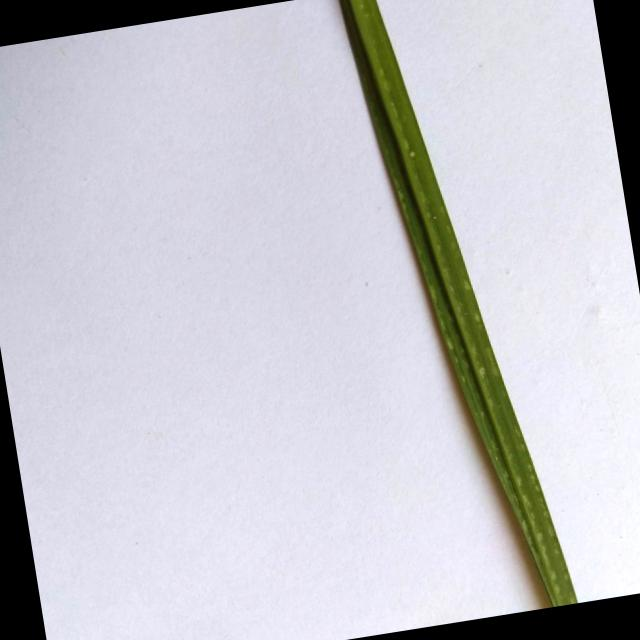Rice_Healthy: (340, 0, 577, 607)
